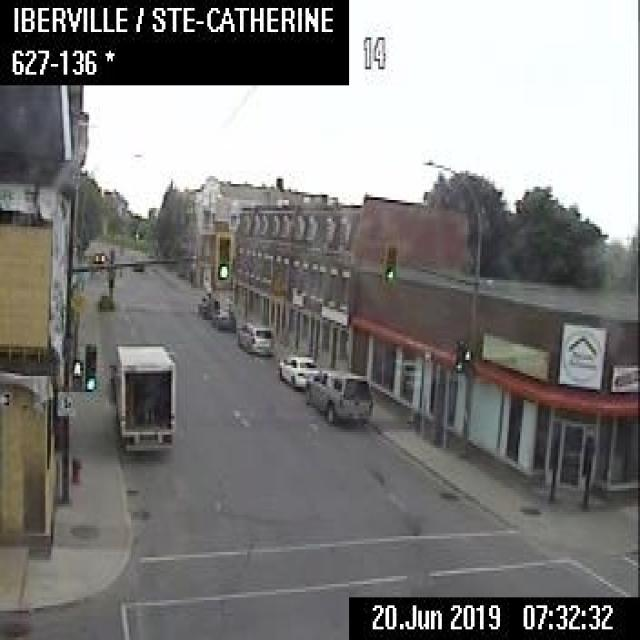vehicle: (113, 336, 176, 453), (304, 368, 373, 427), (277, 354, 320, 388), (236, 320, 273, 354), (207, 306, 234, 330), (196, 291, 218, 316), (92, 249, 104, 261), (132, 257, 143, 269)
